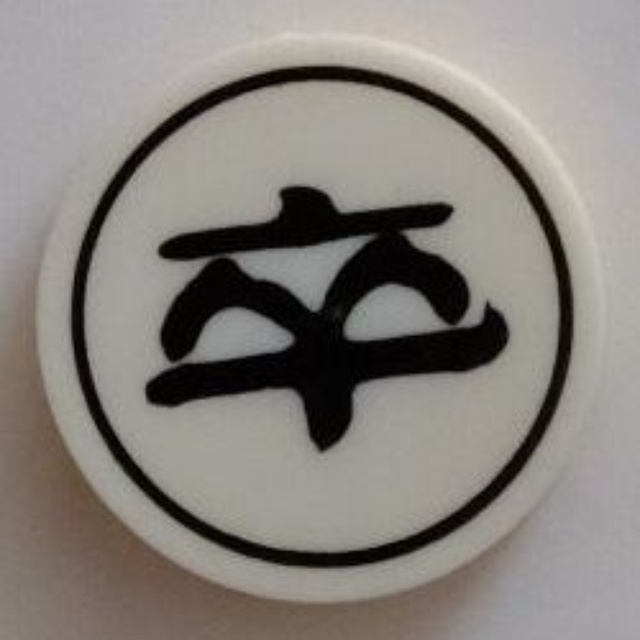black_chot: (24, 32, 619, 610)
